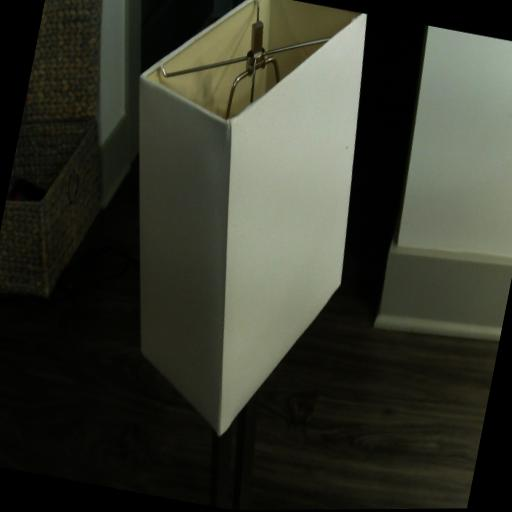lamp: (62, 0, 392, 512)
